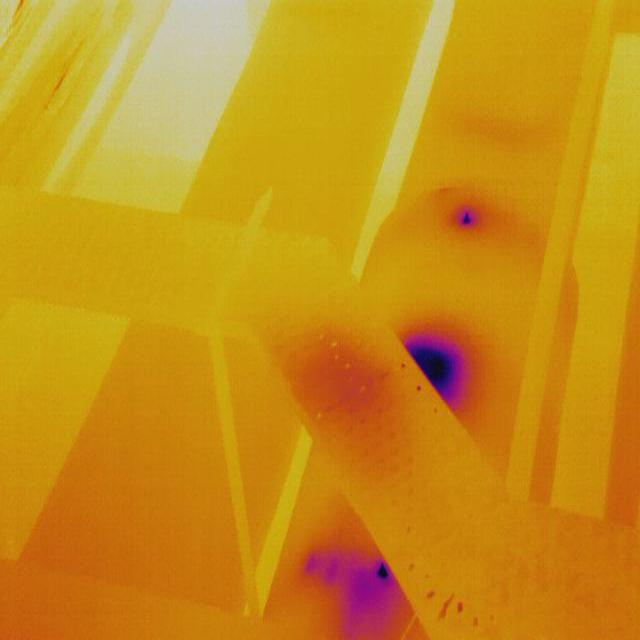leakage: (293, 342, 398, 455), (295, 541, 391, 621), (402, 327, 487, 401), (454, 198, 478, 235)
